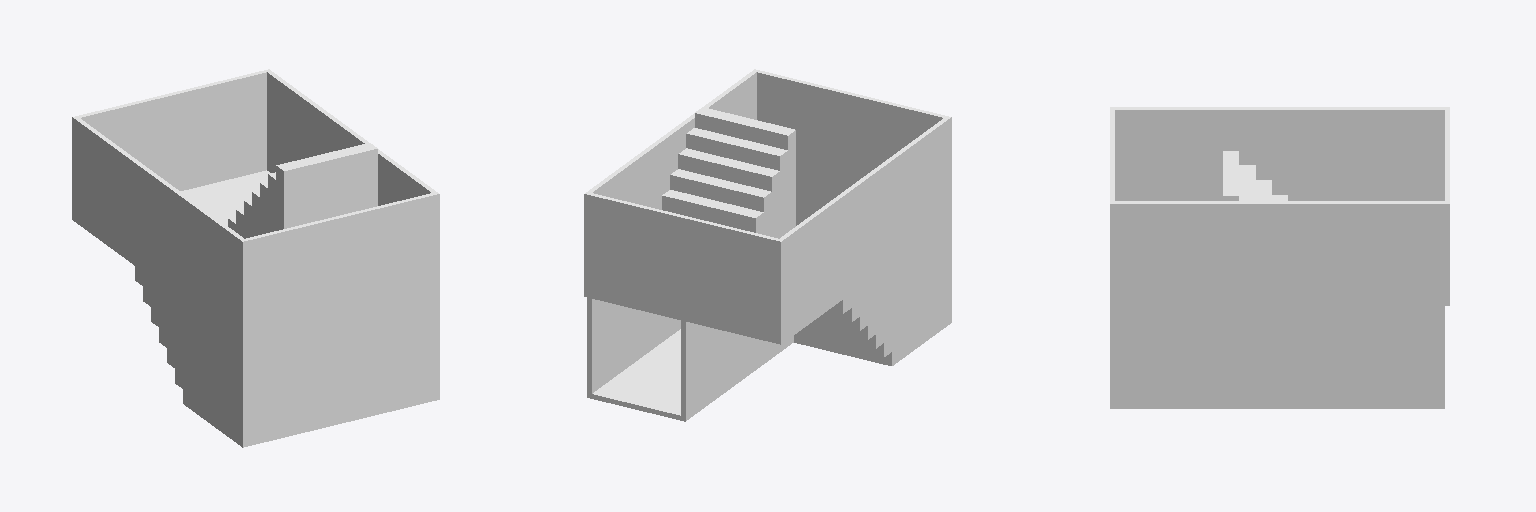
The model's file is ground_stare_wall.obj.
The picture shows the model from 3 angles: view 1: azimuth 30°, elevation 25°; view 2: azimuth 150°, elevation 25°; view 3: azimuth 270°, elevation 25°; orthographic projection.
Parts seen in each view (by area): view 1: ground_stare_wall; view 2: ground_stare_wall; view 3: ground_stare_wall.
Boxes of the visible parts, <box> form: ground_stare_wall: <box>72,69,439,447</box>; ground_stare_wall: <box>584,69,951,421</box>; ground_stare_wall: <box>1110,107,1449,408</box>.
Size of the model in its own units: 42 by 43 by 63.